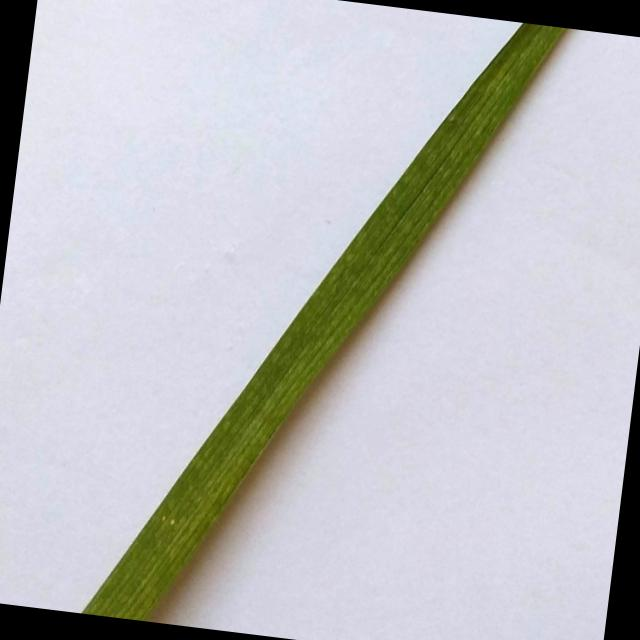Rice_Healthy: (82, 22, 566, 620)
